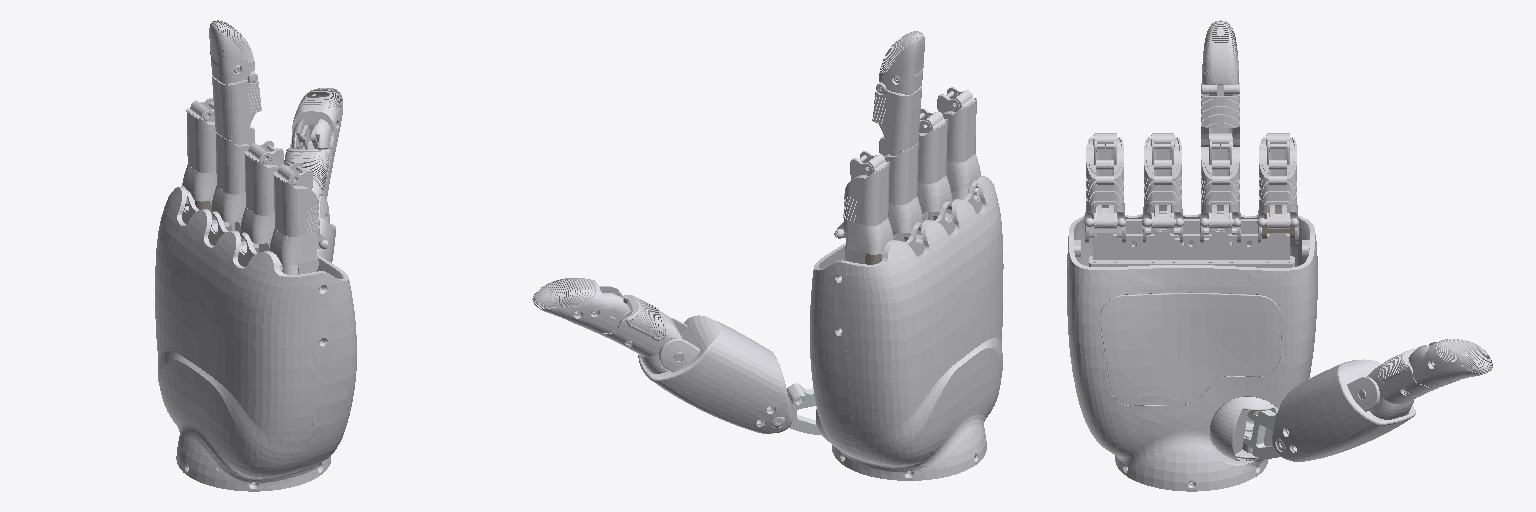
--- Facts derived from the render (not from the file) ---
Views: 3 orthographic renders of the robot side by side, from view 1: azimuth 30°, elevation 25°; view 2: azimuth 150°, elevation 25°; view 3: azimuth 270°, elevation 25°.
Robot: linkerhand_X16_right.urdf — 22 links, 21 joints (21 revolute); root link hand_base_link; default pose: every joint at zero.
Links seen in each view (by area): view 1: hand_base_link, pinky_proximal, ring_proximal, index_proximal, thumb_distal, middle_proximal, middle_middle, middle_distal, thumb_proximal, thumb_metacarpals; view 2: hand_base_link, thumb_metacarpals, index_proximal, thumb_distal, pinky_proximal, ring_proximal, thumb_proximal, middle_proximal, middle_middle, middle_distal, thumb_metacarpals_base2; view 3: hand_base_link, thumb_metacarpals, ring_proximal, middle_proximal, pinky_proximal, index_proximal, thumb_distal, thumb_metacarpals_base1, thumb_proximal, middle_distal, middle_middle, thumb_metacarpals_base2.
Boxes of the visible links, x1,y1,x2,y2 form: hand_base_link: [155, 186, 356, 491]; pinky_proximal: [269, 162, 328, 274]; ring_proximal: [240, 141, 283, 250]; index_proximal: [182, 98, 216, 211]; thumb_distal: [290, 88, 342, 155]; middle_proximal: [211, 126, 254, 232]; middle_middle: [212, 71, 261, 145]; middle_distal: [209, 20, 254, 84]; thumb_proximal: [284, 141, 334, 198]; thumb_metacarpals: [317, 196, 335, 262]; hand_base_link: [810, 176, 1003, 480]; thumb_metacarpals: [638, 315, 792, 433]; index_proximal: [834, 151, 893, 263]; thumb_distal: [532, 278, 630, 333]; pinky_proximal: [937, 87, 980, 200]; ring_proximal: [917, 109, 952, 219]; thumb_proximal: [600, 295, 682, 373]; middle_proximal: [879, 137, 923, 239]; middle_middle: [872, 82, 921, 155]; middle_distal: [879, 31, 924, 94]; thumb_metacarpals_base2: [787, 383, 820, 434]; hand_base_link: [1067, 211, 1317, 491]; thumb_metacarpals: [1272, 359, 1415, 461]; ring_proximal: [1142, 133, 1183, 242]; middle_proximal: [1200, 133, 1241, 242]; pinky_proximal: [1084, 133, 1125, 242]; index_proximal: [1257, 133, 1298, 242]; thumb_distal: [1409, 339, 1492, 388]; thumb_metacarpals_base1: [1210, 397, 1278, 460]; thumb_proximal: [1367, 349, 1439, 419]; middle_distal: [1202, 20, 1238, 95]; middle_middle: [1201, 83, 1239, 146]; thumb_metacarpals_base2: [1243, 410, 1279, 458].
Size in the robot's own frame: 0.1418 by 0.1774 by 0.1964 metres.
14 mesh visuals loaded from 22 distinct referenced files (14 binary STL); not drawn: 8 (reference not matched to a file when rendering).

robot.urdf — linkerhand_X16_right.urdf:
<?xml version="1.0" encoding="utf-8"?>
<!-- This URDF was automatically created by SolidWorks to URDF Exporter! Originally created by Stephen Brawner ([email redacted]) 
     Commit Version: 1.6.0-1-g15f4949  Build Version: 1.6.7594.29634
     For more information, please see http://wiki.ros.org/sw_urdf_exporter -->
<robot
  name="linkerhand_X16_right.urdf">
  <link
    name="hand_base_link">
    <inertial>
      <origin
        xyz="-0.0032701 -0.00039398 0.050138"
        rpy="0 0 0" />
      <mass
        value="0.19126" />
      <inertia
        ixx="0.00029435"
        ixy="9.917E-07"
        ixz="1.3867E-07"
        iyy="0.00013626"
        iyz="-3.8443E-06"
        izz="0.00018783" />
    </inertial>
    <visual>
      <origin
        xyz="0 0 0"
        rpy="0 0 0" />
      <geometry>
        <mesh
          filename="meshes/hand_base_link.STL" />
      </geometry>
      <material
        name="">
        <color
          rgba="0.86667 0.86667 0.8902 1" />
      </material>
    </visual>
    <collision>
      <origin
        xyz="0 0 0"
        rpy="0 0 0" />
      <geometry>
        <mesh
          filename="meshes/hand_base_link.STL" />
      </geometry>
    </collision>
  </link>
  <link
    name="thumb_metacarpals_base1">
    <inertial>
      <origin
        xyz="0.0134149141149961 -0.00314146457560741 0.000236961025927893"
        rpy="0 0 0" />
      <mass
        value="0.0124712785430264" />
      <inertia
        ixx="2.17967773065547E-06"
        ixy="-1.124873136608E-07"
        ixz="-9.47830886794327E-09"
        iyy="1.16196412464816E-06"
        iyz="2.25484021737918E-08"
        izz="1.57436870805833E-06" />
    </inertial>
    <visual>
      <origin
        xyz="0 0 0"
        rpy="0 0 0" />
      <geometry>
        <mesh
          filename="meshes/thumb_metacarpals_base1.STL" />
      </geometry>
      <material
        name="">
        <color
          rgba="0.866666666666667 0.866666666666667 0.890196078431372 1" />
      </material>
    </visual>
    <collision>
      <origin
        xyz="0 0 0"
        rpy="0 0 0" />
      <geometry>
        <mesh
          filename="meshes/thumb_metacarpals_base1.STL" />
      </geometry>
    </collision>
  </link>
  <joint
    name="thumb_cmc_roll"
    type="revolute">
    <origin
      xyz="-0.00068832 0.0227 0.0241"
      rpy="0 0 0" />
    <parent
      link="hand_base_link" />
    <child
      link="thumb_metacarpals_base1" />
    <axis
      xyz="1 0 0" />
    <limit
      lower="0"
      upper="0.489"
      effort="0"
      velocity="0" />
  </joint>
  <link
    name="thumb_metacarpals_base2">
    <inertial>
      <origin
        xyz="0.00805043118604656 0.00884632333664083 0.00165149279214109"
        rpy="0 0 0" />
      <mass
        value="0.00506529344098014" />
      <inertia
        ixx="4.26027463795075E-07"
        ixy="-2.00364210221145E-07"
        ixz="-2.38147412527679E-08"
        iyy="3.92190616749035E-07"
        iyz="-6.80837938933958E-08"
        izz="4.43759231454847E-07" />
    </inertial>
    <visual>
      <origin
        xyz="0 0 0"
        rpy="0 0 0" />
      <geometry>
        <mesh
          filename="meshes/thumb_metacarpals_base2.STL" />
      </geometry>
      <material
        name="">
        <color
          rgba="0.898039215686275 0.917647058823529 0.929411764705882 1" />
      </material>
    </visual>
    <collision>
      <origin
        xyz="0 0 0"
        rpy="0 0 0" />
      <geometry>
        <mesh
          filename="meshes/thumb_metacarpals_base2.STL" />
      </geometry>
    </collision>
  </link>
  <joint
    name="thumb_cmc_yaw"
    type="revolute">
    <origin
      xyz="0.021071 0.0032693 -0.00045946"
      rpy="0 0 0" />
    <parent
      link="thumb_metacarpals_base1" />
    <child
      link="thumb_metacarpals_base2" />
    <axis
      xyz="0 -0.13917 -0.99027" />
    <limit
      lower="0"
      upper="1.309"
      effort="0"
      velocity="0" />
  </joint>
  <link
    name="thumb_metacarpals">
    <inertial>
      <origin
        xyz="0.0134575289023575 0.0158479099940706 0.0176459520563751"
        rpy="0 0 0" />
      <mass
        value="0.0603583651520557" />
      <inertia
        ixx="1.77961199123504E-05"
        ixy="-6.55218856957268E-06"
        ixz="-3.61166112314609E-06"
        iyy="1.64177405926455E-05"
        iyz="-4.81885596450216E-06"
        izz="1.52427517706849E-05" />
    </inertial>
    <visual>
      <origin
        xyz="0 0 0"
        rpy="0 0 0" />
      <geometry>
        <mesh
          filename="meshes/thumb_metacarpals.STL" />
      </geometry>
      <material
        name="">
        <color
          rgba="0.866666666666667 0.866666666666667 0.890196078431372 1" />
      </material>
    </visual>
    <collision>
      <origin
        xyz="0 0 0"
        rpy="0 0 0" />
      <geometry>
        <mesh
          filename="meshes/thumb_metacarpals.STL" />
      </geometry>
    </collision>
  </link>
  <joint
    name="thumb_cmc_pitch"
    type="revolute">
    <origin
      xyz="0.019046 0.019815 0.0041436"
      rpy="0 0 0" />
    <parent
      link="thumb_metacarpals_base2" />
    <child
      link="thumb_metacarpals" />
    <axis
      xyz="-0.70711 0.70023 -0.09841" />
    <limit
      lower="0"
      upper="0.8377"
      effort="0"
      velocity="0" />
  </joint>
  <link
    name="thumb_proximal">
    <inertial>
      <origin
        xyz="0.0088055016261689 0.00912584408154034 0.00603790594911241"
        rpy="0 0 0" />
      <mass
        value="0.0150720015495994" />
      <inertia
        ixx="1.3893239554546E-06"
        ixy="-3.25684023949997E-07"
        ixz="-2.05726562819854E-07"
        iyy="1.32509489079776E-06"
        iyz="-3.07318894719417E-07"
        izz="9.05409424684871E-07" />
    </inertial>
    <visual>
      <origin
        xyz="0 0 0"
        rpy="0 0 0" />
      <geometry>
        <mesh
          filename="meshes/thumb_proximal.STL" />
      </geometry>
      <material
        name="">
        <color
          rgba="0.866666666666667 0.866666666666667 0.890196078431372 1" />
      </material>
    </visual>
    <collision>
      <origin
        xyz="0 0 0"
        rpy="0 0 0" />
      <geometry>
        <mesh
          filename="meshes/thumb_proximal.STL" />
      </geometry>
    </collision>
  </link>
  <joint
    name="thumb_mcp"
    type="revolute">
    <origin
      xyz="0.027783 0.033111 0.035966"
      rpy="0 0 0" />
    <parent
      link="thumb_metacarpals" />
    <child
      link="thumb_proximal" />
    <axis
      xyz="0.70711 -0.70023 0.09841" />
    <limit
      lower="0"
      upper="1.298"
      effort="0"
      velocity="0" />
    <!-- <mimic
      joint="thumb_ip"
      multiplier="1.09"
      offset="0" /> -->
  </joint>
  <link
    name="thumb_distal">
    <inertial>
      <origin
        xyz="0.00609115305520601 0.00690201813049127 0.00653360880975751"
        rpy="0 0 0" />
      <mass
        value="0.0180991265717759" />
      <inertia
        ixx="1.02177249807416E-06"
        ixy="-3.12347597963975E-07"
        ixz="-1.25867848433246E-07"
        iyy="9.87790373302599E-07"
        iyz="-1.11671217078542E-07"
        izz="1.44700987728898E-06" />
    </inertial>
    <visual>
      <origin
        xyz="0 0 0"
        rpy="0 0 0" />
      <geometry>
        <mesh
          filename="meshes/thumb_distal.STL" />
      </geometry>
      <material
        name="">
        <color
          rgba="0.866666666666667 0.866666666666667 0.890196078431372 1" />
      </material>
    </visual>
    <collision>
      <origin
        xyz="0 0 0"
        rpy="0 0 0" />
      <geometry>
        <mesh
          filename="meshes/thumb_distal.STL" />
      </geometry>
    </collision>
  </link>
  <joint
    name="thumb_ip"
    type="revolute">
    <origin
      xyz="0.019768 0.022404 0.017375"
      rpy="0 0 0" />
    <parent
      link="thumb_proximal" />
    <child
      link="thumb_distal" />
    <axis
      xyz="0.70711 -0.70023 0.09841" />
    <limit
      lower="0"
      upper="1.413"
      effort="0"
      velocity="0" />
    <mimic
      joint="thumb_mcp"
      multiplier="1.09"
      offset="0" />
  </joint>
  <link
    name="index_metacarpals">
    <inertial>
      <origin
        xyz="0.00800315592241141 7.08671565874397E-10 0.00243768809275643"
        rpy="0 0 0" />
      <mass
        value="0.0069674641924626" />
      <inertia
        ixx="2.79763563546334E-07"
        ixy="9.18887208384515E-14"
        ixz="-2.63807738530808E-08"
        iyy="1.64332169287868E-07"
        iyz="1.87282512364522E-13"
        izz="2.88425815686695E-07" />
    </inertial>
    <visual>
      <origin
        xyz="0 0 0"
        rpy="0 0 0" />
      <geometry>
        <mesh
          filename="meshes/index_metacarpals.STL" />
      </geometry>
      <material
        name="">
        <color
          rgba="0.647058823529412 0.619607843137255 0.588235294117647 1" />
      </material>
    </visual>
    <collision>
      <origin
        xyz="0 0 0"
        rpy="0 0 0" />
      <geometry>
        <mesh
          filename="meshes/index_metacarpals.STL" />
      </geometry>
    </collision>
  </link>
  <joint
    name="index_mcp_roll"
    type="revolute">
    <origin
      xyz="-0.012538 0.036 0.1048"
      rpy="0 0 0" />
    <parent
      link="hand_base_link" />
    <child
      link="index_metacarpals" />
    <axis
      xyz="-1 0 0" />
    <limit
      lower="-0.18"
      upper="0.18"
      effort="0"
      velocity="0" />
  </joint>
  <link
    name="index_proximal">
    <inertial>
      <origin
        xyz="-0.00110781163691715 1.35676546516098E-05 0.0198634344199539"
        rpy="0 0 0" />
      <mass
        value="0.0120280208732201" />
      <inertia
        ixx="1.46103143499729E-06"
        ixy="3.66961357213296E-10"
        ixz="6.35397675144472E-08"
        iyy="1.53409812879568E-06"
        iyz="6.6364794892568E-11"
        izz="3.46231626289234E-07" />
    </inertial>
    <visual>
      <origin
        xyz="0 0 0"
        rpy="0 0 0" />
      <geometry>
        <mesh
          filename="meshes/index_proximal.STL" />
      </geometry>
      <material
        name="">
        <color
          rgba="0.866666666666667 0.866666666666667 0.890196078431372 1" />
      </material>
    </visual>
    <collision>
      <origin
        xyz="0 0 0"
        rpy="0 0 0" />
      <geometry>
        <mesh
          filename="meshes/index_proximal.STL" />
      </geometry>
    </collision>
  </link>
  <joint
    name="index_mcp_pitch"
    type="revolute">
    <origin
      xyz="0.0126198026192479 0 0"
      rpy="0 0 0" />
    <parent
      link="index_metacarpals" />
    <child
      link="index_proximal" />
    <axis
      xyz="0 1 0" />
    <limit
      lower="0"
      upper="1.396"
      effort="0"
      velocity="0" />
  </joint>
  <link
    name="index_middle">
    <inertial>
      <origin
        xyz="0.00144995351926267 -2.55936957252456E-08 0.0145841621274674"
        rpy="0 0 0" />
      <mass
        value="0.00579467340423502" />
      <inertia
        ixx="5.16430134727309E-07"
        ixy="-3.57694136908858E-13"
        ixz="-5.16490243274308E-08"
        iyy="4.38018614758759E-07"
        iyz="6.16718796704541E-13"
        izz="3.28703138818955E-07" />
    </inertial>
    <visual>
      <origin
        xyz="0 0 0"
        rpy="0 0 0" />
      <geometry>
        <mesh
          filename="meshes/index_middle.STL" />
      </geometry>
      <material
        name="">
        <color
          rgba="0.866666666666667 0.866666666666667 0.890196078431372 1" />
      </material>
    </visual>
    <collision>
      <origin
        xyz="0 0 0"
        rpy="0 0 0" />
      <geometry>
        <mesh
          filename="meshes/index_middle.STL" />
      </geometry>
    </collision>
  </link>
  <joint
    name="index_pip"
    type="revolute">
    <origin
      xyz="-0.0039371 0 0.03983"
      rpy="0 0 0" />
    <parent
      link="index_proximal" />
    <child
      link="index_middle" />
    <axis
      xyz="0 1 0" />
    <limit
      lower="0"
      upper="1.571"
      effort="0"
      velocity="0" />
    <!-- <mimic
      joint="index_dip"
      multiplier="0.84"
      offset="0" /> -->
  </joint>
  <link
    name="index_distal">
    <inertial>
      <origin
        xyz="-0.00658736294329401 -6.21153760196197E-06 0.00719584531070251"
        rpy="0 0 0" />
      <mass
        value="0.0111896165115351" />
      <inertia
        ixx="9.25371538349445E-07"
        ixy="8.08371952309705E-11"
        ixz="1.44269971506002E-07"
        iyy="9.68362345228068E-07"
        iyz="-5.35872701431461E-10"
        izz="3.78279514208212E-07" />
    </inertial>
    <visual>
      <origin
        xyz="0 0 0"
        rpy="0 0 0" />
      <geometry>
        <mesh
          filename="meshes/index_distal.STL" />
      </geometry>
      <material
        name="">
        <color
          rgba="0.866666666666667 0.866666666666667 0.890196078431372 1" />
      </material>
    </visual>
    <collision>
      <origin
        xyz="0 0 0"
        rpy="0 0 0" />
      <geometry>
        <mesh
          filename="meshes/index_distal.STL" />
      </geometry>
    </collision>
  </link>
  <joint
    name="index_dip"
    type="revolute">
    <origin
      xyz="0.0057839 0 0.026493"
      rpy="0 0 0" />
    <parent
      link="index_middle" />
    <child
      link="index_distal" />
    <axis
      xyz="0 1 0" />
    <limit
      lower="0"
      upper="1.326"
      effort="0"
      velocity="0" />
    <mimic
      joint="index_pip"
      multiplier="0.84"
      offset="0" />
  </joint>
  <link
    name="middle_metacarpals">
    <inertial>
      <origin
        xyz="0.0080031559224114 7.09556908021214E-10 0.00243768809275643"
        rpy="0 0 0" />
      <mass
        value="0.00696746419246259" />
      <inertia
        ixx="2.79763563546334E-07"
        ixy="9.1888720785087E-14"
        ixz="-2.63807738530808E-08"
        iyy="1.64332169287868E-07"
        iyz="1.87282512553076E-13"
        izz="2.88425815686695E-07" />
    </inertial>
    <visual>
      <origin
        xyz="0 0 0"
        rpy="0 0 0" />
      <geometry>
        <mesh
          filename="meshes/middle_metacarpals.STL" />
      </geometry>
      <material
        name="">
        <color
          rgba="0.647058823529412 0.619607843137255 0.588235294117647 1" />
      </material>
    </visual>
    <collision>
      <origin
        xyz="0 0 0"
        rpy="0 0 0" />
      <geometry>
        <mesh
          filename="meshes/middle_metacarpals.STL" />
      </geometry>
    </collision>
  </link>
  <joint
    name="middle_mcp_roll"
    type="revolute">
    <origin
      xyz="-0.012538 0.012 0.1048"
      rpy="0 0 0" />
    <parent
      link="hand_base_link" />
    <child
      link="middle_metacarpals" />
    <axis
      xyz="-1 0 0" />
    <limit
      lower="-0.18"
      upper="0.18"
      effort="0"
      velocity="0" />
  </joint>
  <link
    name="middle_proximal">
    <inertial>
      <origin
        xyz="-0.0011078116369171 1.35676546516462E-05 0.0198634344199539"
        rpy="0 0 0" />
      <mass
        value="0.01202802087322" />
      <inertia
        ixx="1.46103143499732E-06"
        ixy="3.66961357216841E-10"
        ixz="6.35397675144443E-08"
        iyy="1.53409812879568E-06"
        iyz="6.63647948882004E-11"
        izz="3.4623162628927E-07" />
    </inertial>
    <visual>
      <origin
        xyz="0 0 0"
        rpy="0 0 0" />
      <geometry>
        <mesh
          filename="meshes/middle_proximal.STL" />
      </geometry>
      <material
        name="">
        <color
          rgba="0.866666666666667 0.866666666666667 0.890196078431372 1" />
      </material>
    </visual>
    <collision>
      <origin
        xyz="0 0 0"
        rpy="0 0 0" />
      <geometry>
        <mesh
          filename="meshes/middle_proximal.STL" />
      </geometry>
    </collision>
  </link>
  <joint
    name="middle_mcp_pitch"
    type="revolute">
    <origin
      xyz="0.0126198026192479 0 0"
      rpy="0 0 0" />
    <parent
      link="middle_metacarpals" />
    <child
      link="middle_proximal" />
    <axis
      xyz="0 1 0" />
    <limit
      lower="0"
      upper="1.396"
      effort="0"
      velocity="0" />
  </joint>
  <link
    name="middle_middle">
    <inertial>
      <origin
        xyz="0.00144995351926266 -2.55936957287151E-08 0.0145841621274674"
        rpy="0 0 0" />
      <mass
        value="0.00579467340423501" />
      <inertia
        ixx="5.16430134727308E-07"
        ixy="-3.57694136616036E-13"
        ixz="-5.16490243274302E-08"
        iyy="4.3801861475876E-07"
        iyz="6.16718797019667E-13"
        izz="3.28703138818957E-07" />
    </inertial>
    <visual>
      <origin
        xyz="0 0 0"
        rpy="0 0 0" />
      <geometry>
        <mesh
          filename="meshes/middle_middle.STL" />
      </geometry>
      <material
        name="">
        <color
          rgba="0.866666666666667 0.866666666666667 0.890196078431372 1" />
      </material>
    </visual>
    <collision>
      <origin
        xyz="0 0 0"
        rpy="0 0 0" />
      <geometry>
        <mesh
          filename="meshes/middle_middle.STL" />
      </geometry>
    </collision>
  </link>
  <joint
    name="middle_pip"
    type="revolute">
    <origin
      xyz="-0.0039371 0 0.03983"
      rpy="0 0 0" />
    <parent
      link="middle_proximal" />
    <child
      link="middle_middle" />
    <axis
      xyz="0 1 0" />
    <limit
      lower="0"
      upper="1.571"
      effort="0"
      velocity="0" />
    <!-- <mimic
      joint="middle_dip"
      multiplier="0.84"
      offset="0" /> -->
  </joint>
  <link
    name="middle_distal">
    <inertial>
      <origin
        xyz="-0.00658736354875118 -6.21148949159211E-06 0.00719584663647685"
        rpy="0 0 0" />
      <mass
        value="0.0111896176823709" />
      <inertia
        ixx="9.25371686065313E-07"
        ixy="8.08501082466414E-11"
        ixz="1.4427006038686E-07"
        iyy="9.68362531803104E-07"
        iyz="-5.35883133574264E-10"
        izz="3.78279561675847E-07" />
    </inertial>
    <visual>
      <origin
        xyz="0 0 0"
        rpy="0 0 0" />
      <geometry>
        <mesh
          filename="meshes/middle_distal.STL" />
      </geometry>
      <material
        name="">
        <color
          rgba="0.866666666666667 0.866666666666667 0.890196078431372 1" />
      </material>
    </visual>
    <collision>
      <origin
        xyz="0 0 0"
        rpy="0 0 0" />
      <geometry>
        <mesh
          filename="meshes/middle_distal.STL" />
      </geometry>
    </collision>
  </link>
  <joint
    name="middle_dip"
    type="revolute">
    <origin
      xyz="0.0057839 0 0.026493"
      rpy="0 0 0" />
    <parent
      link="middle_middle" />
    <child
      link="middle_distal" />
    <axis
      xyz="0 1 0" />
    <limit
      lower="0"
      upper="1.326"
      effort="0"
      velocity="0" />
    <mimic
      joint="middle_pip"
      multiplier="0.84"
      offset="0" />
  </joint>
  <link
    name="ring_metacarpals">
    <inertial>
      <origin
        xyz="0.0080031559224114 7.09556911490661E-10 0.00243768809275643"
        rpy="0 0 0" />
      <mass
        value="0.0069674641924626" />
      <inertia
        ixx="2.79763563546334E-07"
        ixy="9.18887208201558E-14"
        ixz="-2.63807738530808E-08"
        iyy="1.64332169287868E-07"
        iyz="1.87282512552189E-13"
        izz="2.88425815686695E-07" />
    </inertial>
    <visual>
      <origin
        xyz="0 0 0"
        rpy="0 0 0" />
      <geometry>
        <mesh
          filename="meshes/ring_metacarpals.STL" />
      </geometry>
      <material
        name="">
        <color
          rgba="0.647058823529412 0.619607843137255 0.588235294117647 1" />
      </material>
    </visual>
    <collision>
      <origin
        xyz="0 0 0"
        rpy="0 0 0" />
      <geometry>
        <mesh
          filename="meshes/ring_metacarpals.STL" />
      </geometry>
    </collision>
  </link>
  <joint
    name="ring_mcp_roll"
    type="revolute">
    <origin
      xyz="-0.012538 -0.012 0.1048"
      rpy="0 0 0" />
    <parent
      link="hand_base_link" />
    <child
      link="ring_metacarpals" />
    <axis
      xyz="-1 0 0" />
    <limit
      lower="-0.18"
      upper="0.18"
      effort="0"
      velocity="0" />
  </joint>
  <link
    name="ring_proximal">
    <inertial>
      <origin
        xyz="-0.00110781163691709 1.35676546516496E-05 0.0198634344199539"
        rpy="0 0 0" />
      <mass
        value="0.01202802087322" />
      <inertia
        ixx="1.46103143499725E-06"
        ixy="3.66961357216082E-10"
        ixz="6.35397675144444E-08"
        iyy="1.53409812879568E-06"
        iyz="6.63647948900136E-11"
        izz="3.46231626289199E-07" />
    </inertial>
    <visual>
      <origin
        xyz="0 0 0"
        rpy="0 0 0" />
      <geometry>
        <mesh
          filename="meshes/ring_proximal.STL" />
      </geometry>
      <material
        name="">
        <color
          rgba="0.866666666666667 0.866666666666667 0.890196078431372 1" />
      </material>
    </visual>
    <collision>
      <origin
        xyz="0 0 0"
        rpy="0 0 0" />
      <geometry>
        <mesh
          filename="meshes/ring_proximal.STL" />
      </geometry>
    </collision>
  </link>
  <joint
    name="ring_mcp_pitch"
    type="revolute">
    <origin
      xyz="0.0126198026192479 0 0"
      rpy="0 0 0" />
    <parent
      link="ring_metacarpals" />
    <child
      link="ring_proximal" />
    <axis
      xyz="0 1 0" />
    <limit
      lower="0"
      upper="1.396"
      effort="0"
      velocity="0" />
  </joint>
  <link
    name="ring_middle">
    <inertial>
      <origin
        xyz="0.00144995351926267 -2.55936957287151E-08 0.0145841621274674"
        rpy="0 0 0" />
      <mass
        value="0.00579467340423501" />
      <inertia
        ixx="5.16430134727307E-07"
        ixy="-3.57694136897408E-13"
        ixz="-5.16490243274303E-08"
        iyy="4.38018614758758E-07"
        iyz="6.16718796522935E-13"
        izz="3.28703138818955E-07" />
    </inertial>
    <visual>
      <origin
        xyz="0 0 0"
        rpy="0 0 0" />
      <geometry>
        <mesh
          filename="meshes/ring_middle.STL" />
      </geometry>
      <material
        name="">
        <color
          rgba="0.866666666666667 0.866666666666667 0.890196078431372 1" />
      </material>
    </visual>
    <collision>
      <origin
        xyz="0 0 0"
        rpy="0 0 0" />
      <geometry>
        <mesh
          filename="meshes/ring_middle.STL" />
      </geometry>
    </collision>
  </link>
  <joint
    name="ring_pip"
    type="revolute">
    <origin
      xyz="-0.0039371 0 0.03983"
      rpy="0 0 0" />
    <parent
      link="ring_proximal" />
    <child
      link="ring_middle" />
    <axis
      xyz="0 1 0" />
    <limit
      lower="0"
      upper="1.571"
      effort="0"
      velocity="0" />
    <!-- <mimic
      joint="ring_dip"
      multiplier="0.84"
      offset="0" /> -->
  </joint>
  <link
    name="ring_distal">
    <inertial>
      <origin
        xyz="-0.0065873637633613 -6.21123599489973E-06 0.00719584718036041"
        rpy="0 0 0" />
      <mass
        value="0.0111896181478205" />
      <inertia
        ixx="9.25371802908145E-07"
        ixy="8.08587854920271E-11"
        ixz="1.44270104853326E-07"
        iyy="9.68362656214778E-07"
        iyz="-5.35919195581449E-10"
        izz="3.78279576434363E-07" />
    </inertial>
    <visual>
      <origin
        xyz="0 0 0"
        rpy="0 0 0" />
      <geometry>
        <mesh
          filename="meshes/ring_distal.STL" />
      </geometry>
      <material
        name="">
        <color
          rgba="0.866666666666667 0.866666666666667 0.890196078431372 1" />
      </material>
    </visual>
    <collision>
      <origin
        xyz="0 0 0"
        rpy="0 0 0" />
      <geometry>
        <mesh
          filename="meshes/ring_distal.STL" />
      </geometry>
    </collision>
  </link>
  <joint
    name="ring_dip"
    type="revolute">
    <origin
      xyz="0.0057839 0 0.026493"
      rpy="0 0 0" />
    <parent
      link="ring_middle" />
    <child
      link="ring_distal" />
    <axis
      xyz="0 1 0" />
    <limit
      lower="0"
      upper="1.326"
      effort="0"
      velocity="0" />
    <mimic
      joint="ring_pip"
      multiplier="0.84"
      offset="0" />
  </joint>
  <link
    name="pinky_metacarpals">
    <inertial>
      <origin
        xyz="0 0 0"
        rpy="0 0 0" />
      <mass
        value="0" />
      <inertia
        ixx="0"
        ixy="0"
        ixz="0"
        iyy="0"
        iyz="0"
        izz="0" />
    </inertial>
    <visual>
      <origin
        xyz="0 0 0"
        rpy="0 0 0" />
      <geometry>
        <mesh
          filename="meshes/pinky_metacarpals.STL" />
      </geometry>
      <material
        name="">
        <color
          rgba="1 1 1 1" />
      </material>
    </visual>
    <collision>
      <origin
        xyz="0 0 0"
        rpy="0 0 0" />
      <geometry>
        <mesh
          filename="meshes/pinky_metacarpals.STL" />
      </geometry>
    </collision>
  </link>
  <joint
    name="pinky_mcp_roll"
    type="revolute">
    <origin
      xyz="-0.0125383237132332 -0.0360000000008864 0.104800005371604"
      rpy="0 0 0" />
    <parent
      link="hand_base_link" />
    <child
      link="pinky_metacarpals" />
    <axis
      xyz="-1 0 0" />
    <limit
      lower="-0.18"
      upper="0.18"
      effort="0"
      velocity="0" />
  </joint>
  <link
    name="pinky_proximal">
    <inertial>
      <origin
        xyz="-0.0011078116369171 1.35676546516375E-05 0.0198634344199539"
        rpy="0 0 0" />
      <mass
        value="0.0120280208732199" />
      <inertia
        ixx="1.46103143499727E-06"
        ixy="3.66961357217407E-10"
        ixz="6.3539767514444E-08"
        iyy="1.53409812879568E-06"
        iyz="6.63647948885181E-11"
        izz="3.46231626289219E-07" />
    </inertial>
    <visual>
      <origin
        xyz="0 0 0"
        rpy="0 0 0" />
      <geometry>
        <mesh
          filename="meshes/pinky_proximal.STL" />
      </geometry>
      <material
        name="">
        <color
          rgba="0.866666666666667 0.866666666666667 0.890196078431372 1" />
      </material>
    </visual>
    <collision>
      <origin
        xyz="0 0 0"
        rpy="0 0 0" />
      <geometry>
        <mesh
          filename="meshes/pinky_proximal.STL" />
      </geometry>
    </collision>
  </link>
  <joint
    name="pinky_mcp_pitch"
    type="revolute">
    <origin
      xyz="0.0126198026192479 0 0"
      rpy="0 0 0" />
    <parent
      link="pinky_metacarpals" />
    <child
      link="pinky_proximal" />
    <axis
      xyz="0 1 0" />
    <limit
      lower="0"
      upper="1.396"
      effort="0"
      velocity="0" />
  </joint>
  <link
    name="pinky_middle">
    <inertial>
      <origin
        xyz="0.00144995351926266 -2.55936957113678E-08 0.0145841621274674"
        rpy="0 0 0" />
      <mass
        value="0.00579467340423503" />
      <inertia
        ixx="5.16430134727309E-07"
        ixy="-3.57694136832206E-13"
        ixz="-5.16490243274304E-08"
        iyy="4.3801861475876E-07"
        iyz="6.16718796746389E-13"
        izz="3.28703138818957E-07" />
    </inertial>
    <visual>
      <origin
        xyz="0 0 0"
        rpy="0 0 0" />
      <geometry>
        <mesh
          filename="meshes/pinky_middle.STL" />
      </geometry>
      <material
        name="">
        <color
          rgba="0.866666666666667 0.866666666666667 0.890196078431372 1" />
      </material>
    </visual>
    <collision>
      <origin
        xyz="0 0 0"
        rpy="0 0 0" />
      <geometry>
        <mesh
          filename="meshes/pinky_middle.STL" />
      </geometry>
    </collision>
  </link>
  <joint
    name="pinky_pip"
    type="revolute">
    <origin
      xyz="-0.0039371 0 0.03983"
      rpy="0 0 0" />
    <parent
      link="pinky_proximal" />
    <child
      link="pinky_middle" />
    <axis
      xyz="0 1 0" />
    <limit
      lower="0"
      upper="1.571"
      effort="0"
      velocity="0" />
    <!-- <mimic
      joint="pinky_dip"
      multiplier="0.84"
      offset="0" /> -->
  </joint>
  <link
    name="pinky_distal">
    <inertial>
      <origin
        xyz="-0.00658736312101682 -6.21108476379223E-06 0.00719584585373223"
        rpy="0 0 0" />
      <mass
        value="0.011189616983666" />
      <inertia
        ixx="9.25371626743596E-07"
        ixy="8.08706417013186E-11"
        ixz="1.44269999267233E-07"
        iyy="9.68362436541112E-07"
        iyz="-5.35942500746081E-10"
        izz="3.78279526412102E-07" />
    </inertial>
    <visual>
      <origin
        xyz="0 0 0"
        rpy="0 0 0" />
      <geometry>
        <mesh
          filename="meshes/pinky_distal.STL" />
      </geometry>
      <material
        name="">
        <color
          rgba="0.866666666666667 0.866666666666667 0.890196078431372 1" />
      </material>
    </visual>
    <collision>
      <origin
        xyz="0 0 0"
        rpy="0 0 0" />
      <geometry>
        <mesh
          filename="meshes/pinky_distal.STL" />
      </geometry>
    </collision>
  </link>
  <joint
    name="pinky_dip"
    type="revolute">
    <origin
      xyz="0.0057839 0 0.026493"
      rpy="0 0 0" />
    <parent
      link="pinky_middle" />
    <child
      link="pinky_distal" />
    <axis
      xyz="0 1 0" />
    <limit
      lower="0"
      upper="1.326"
      effort="0"
      velocity="0" />
    <mimic
      joint="pinky_pip"
      multiplier="0.84"
      offset="0" />
  </joint>
</robot>
